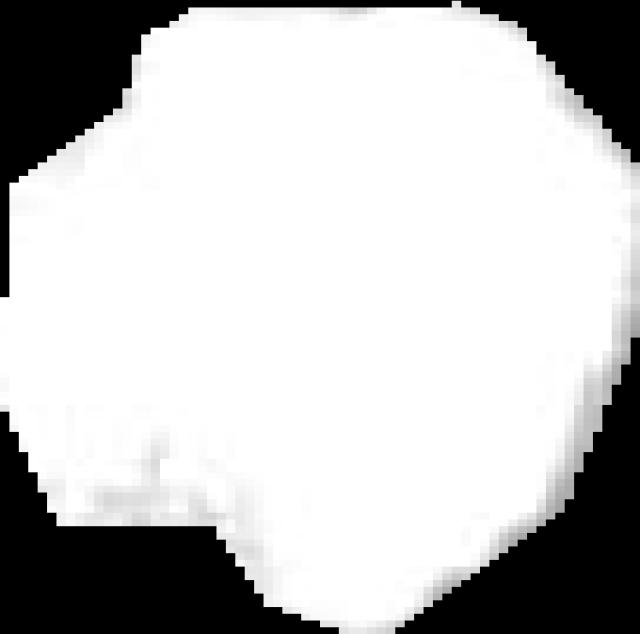tumor_good_chance: (0, 1, 640, 634)
